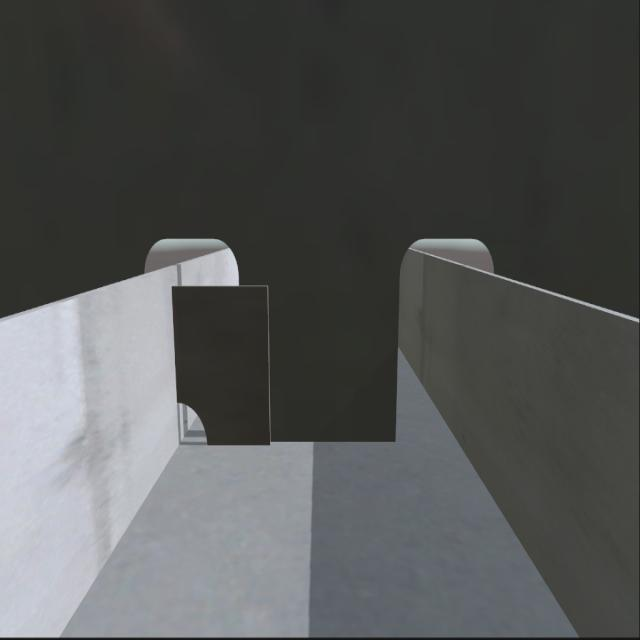fillet_hole: (175, 398, 208, 447)
fillet_yong_jeop_jang: (202, 428, 400, 457)
longi_yong_jeop_jang: (167, 281, 183, 406)
plate_CP01: (174, 286, 270, 447)
